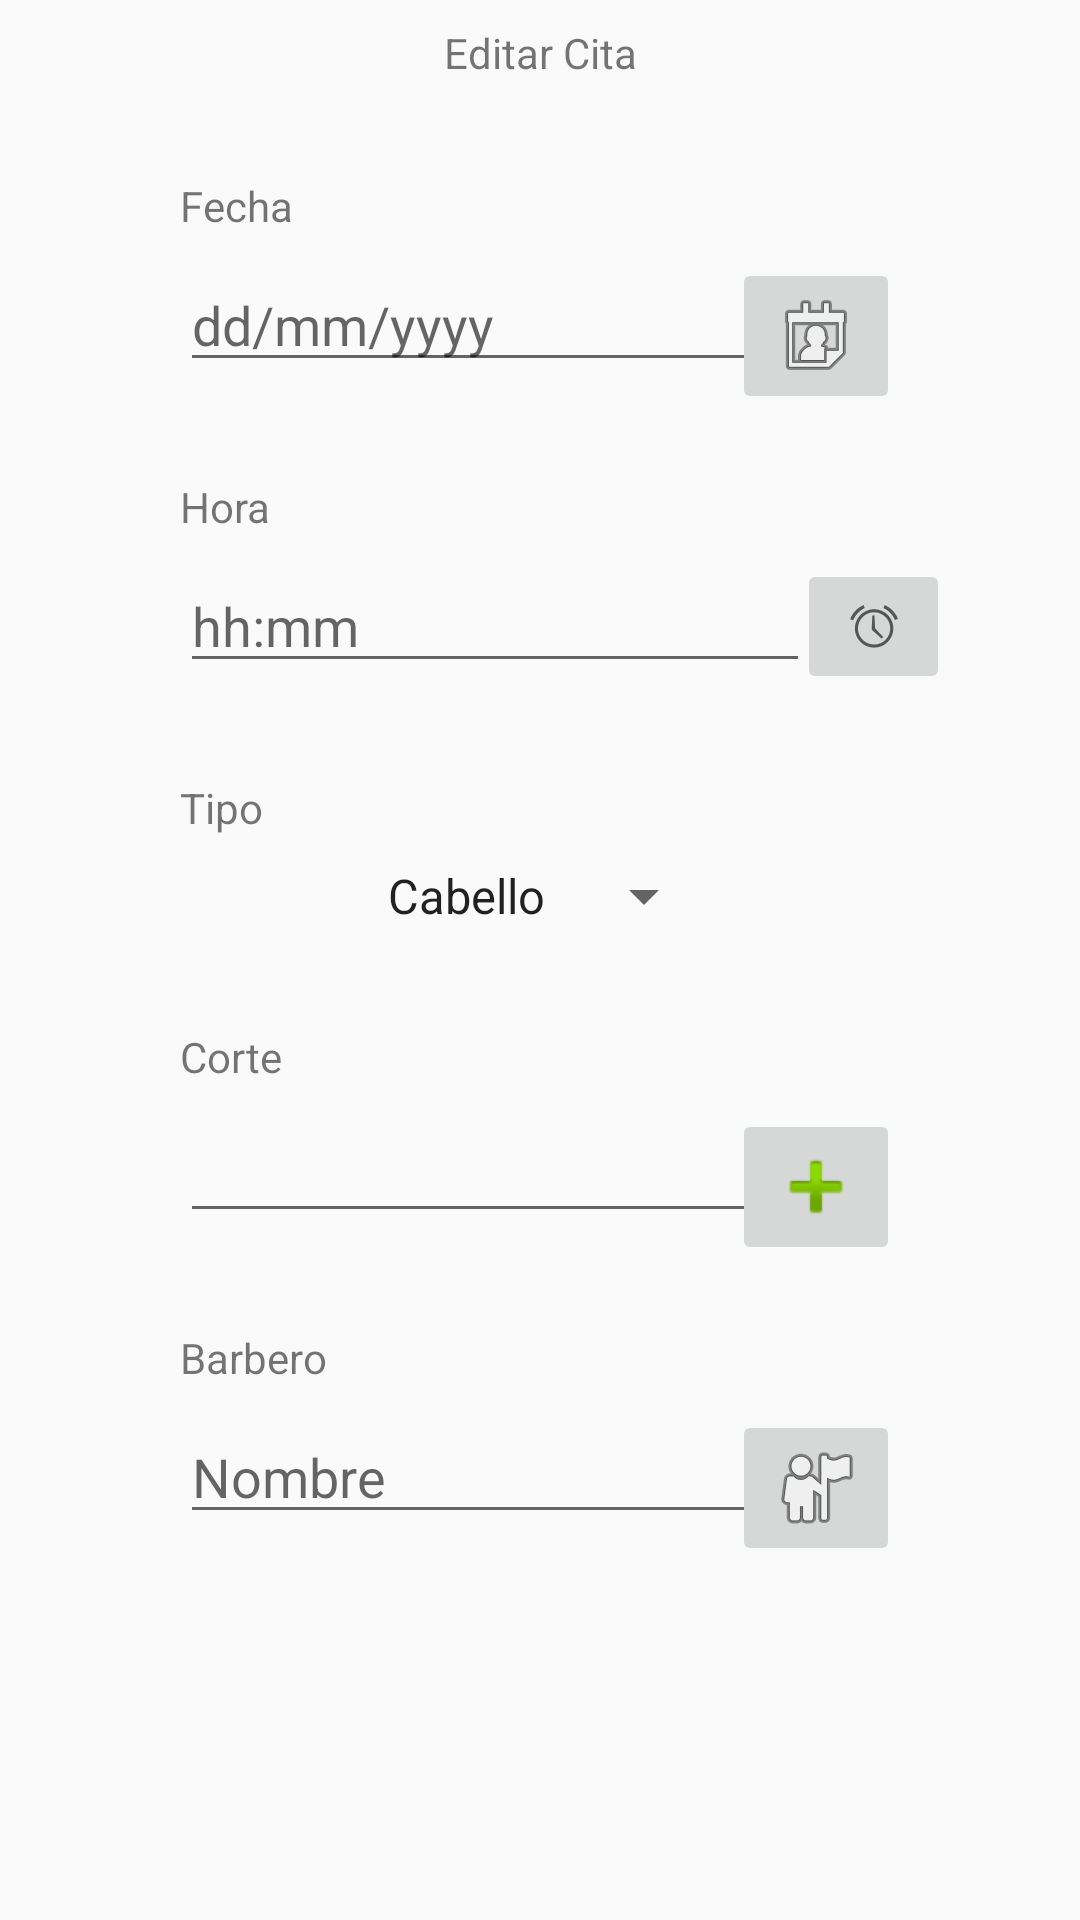

Named icons in this screenshot (1080 × 1920) and their centers, (x=x, y=y):
add: (x=810, y=1187)
calendar: (x=810, y=336)
lock idle alarm: (x=873, y=626)
myplaces: (x=810, y=1488)
